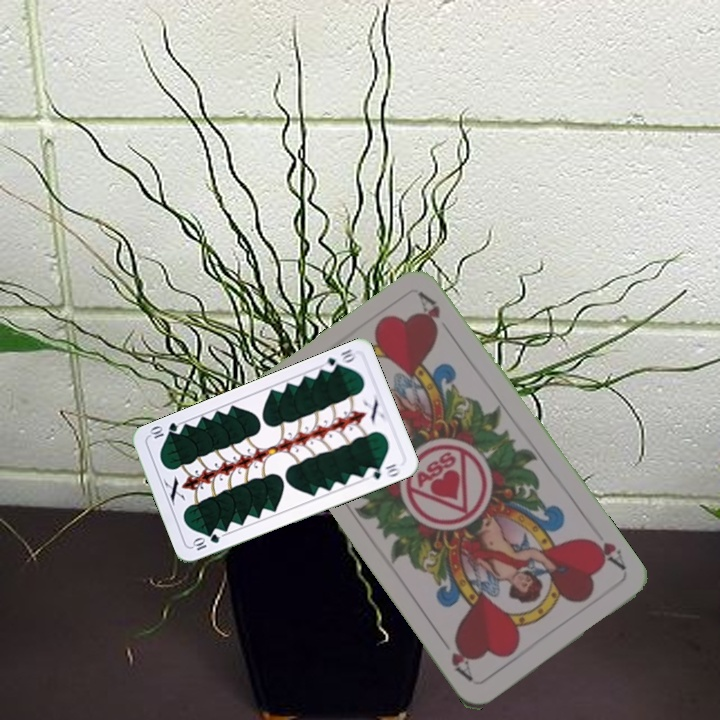G10: (318, 345, 359, 375), (188, 530, 222, 553)
HA: (581, 532, 629, 573)
